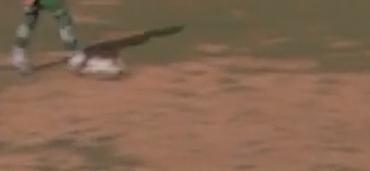ball: (87, 53, 124, 84)
